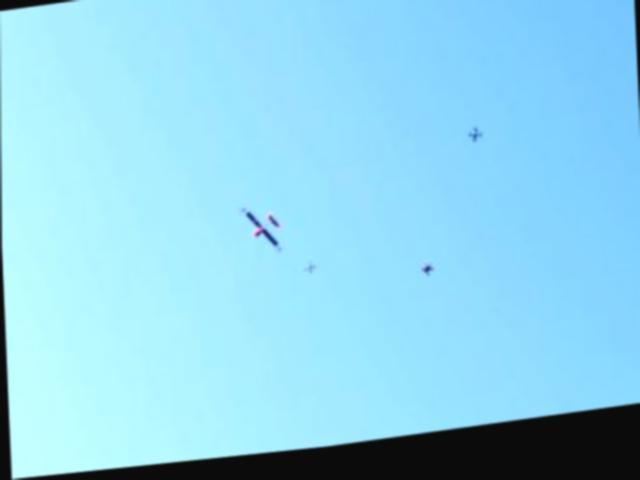uav: (235, 199, 292, 261)
